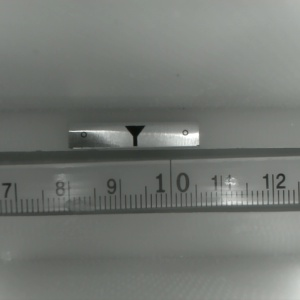0: (175, 172, 189, 192)
1: (155, 172, 164, 193), (262, 173, 268, 189), (210, 175, 216, 190)
2: (275, 173, 285, 189)
7: (1, 183, 11, 198)
8: (54, 180, 63, 195)
9: (106, 178, 116, 194)
finger: (123, 125, 145, 146)
